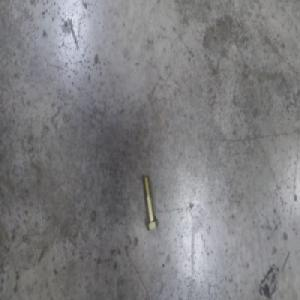Bolt: (142, 175, 159, 232)
